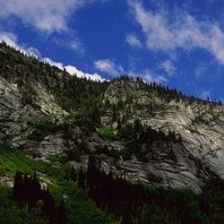neutral: (1, 3, 224, 223)
